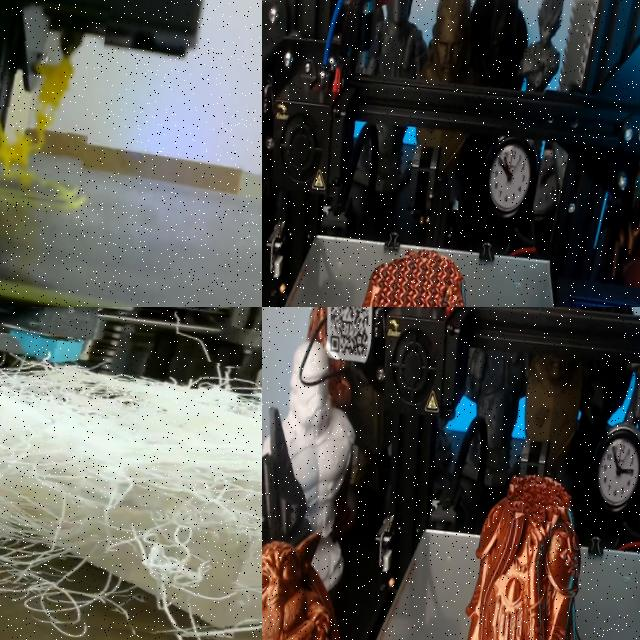spaghetti: (0, 307, 262, 640), (0, 59, 79, 203)
